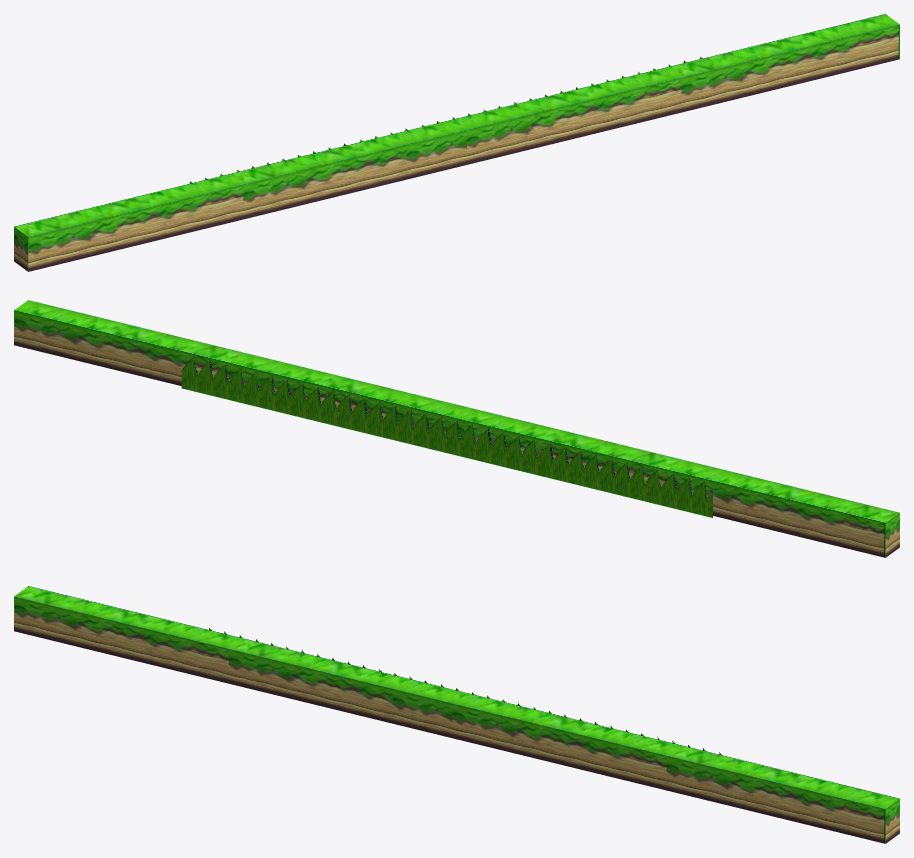
The model's file is FrontLane_03.FBX.
3 renders of one model, top to bottom at view 1: azimuth 30°, elevation 25°; view 2: azimuth 150°, elevation 25°; view 3: azimuth 330°, elevation 25°, orthographic.
Visible parts, largest first — view 1: FrontLane; view 2: FrontLane, Baran; view 3: FrontLane.
Boxes of the visible parts, x1,y1,x2,y2 form: FrontLane: (14,14,899,271); FrontLane: (14,300,899,557); Baran: (181,357,712,517); FrontLane: (14,586,899,843).
Bounding box in the file's own units: 2067 × 79.48 × 68.9.
Materials: 2 (2 with a texture image).
